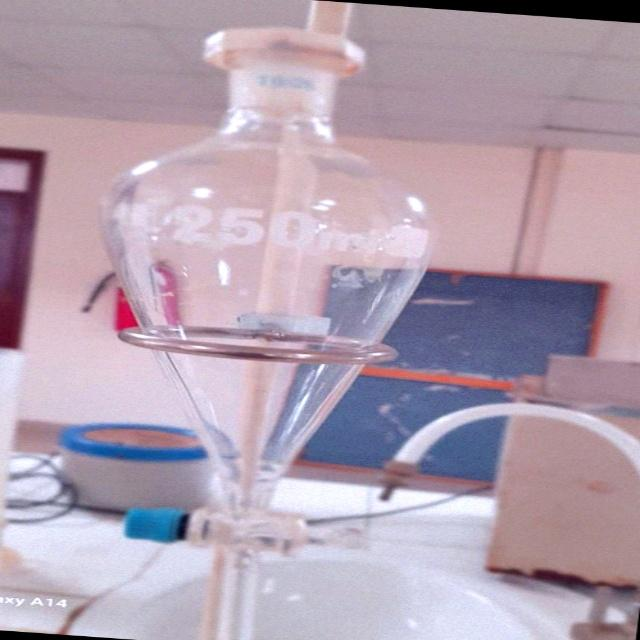Separating Funnel: (42, 1, 478, 640)
